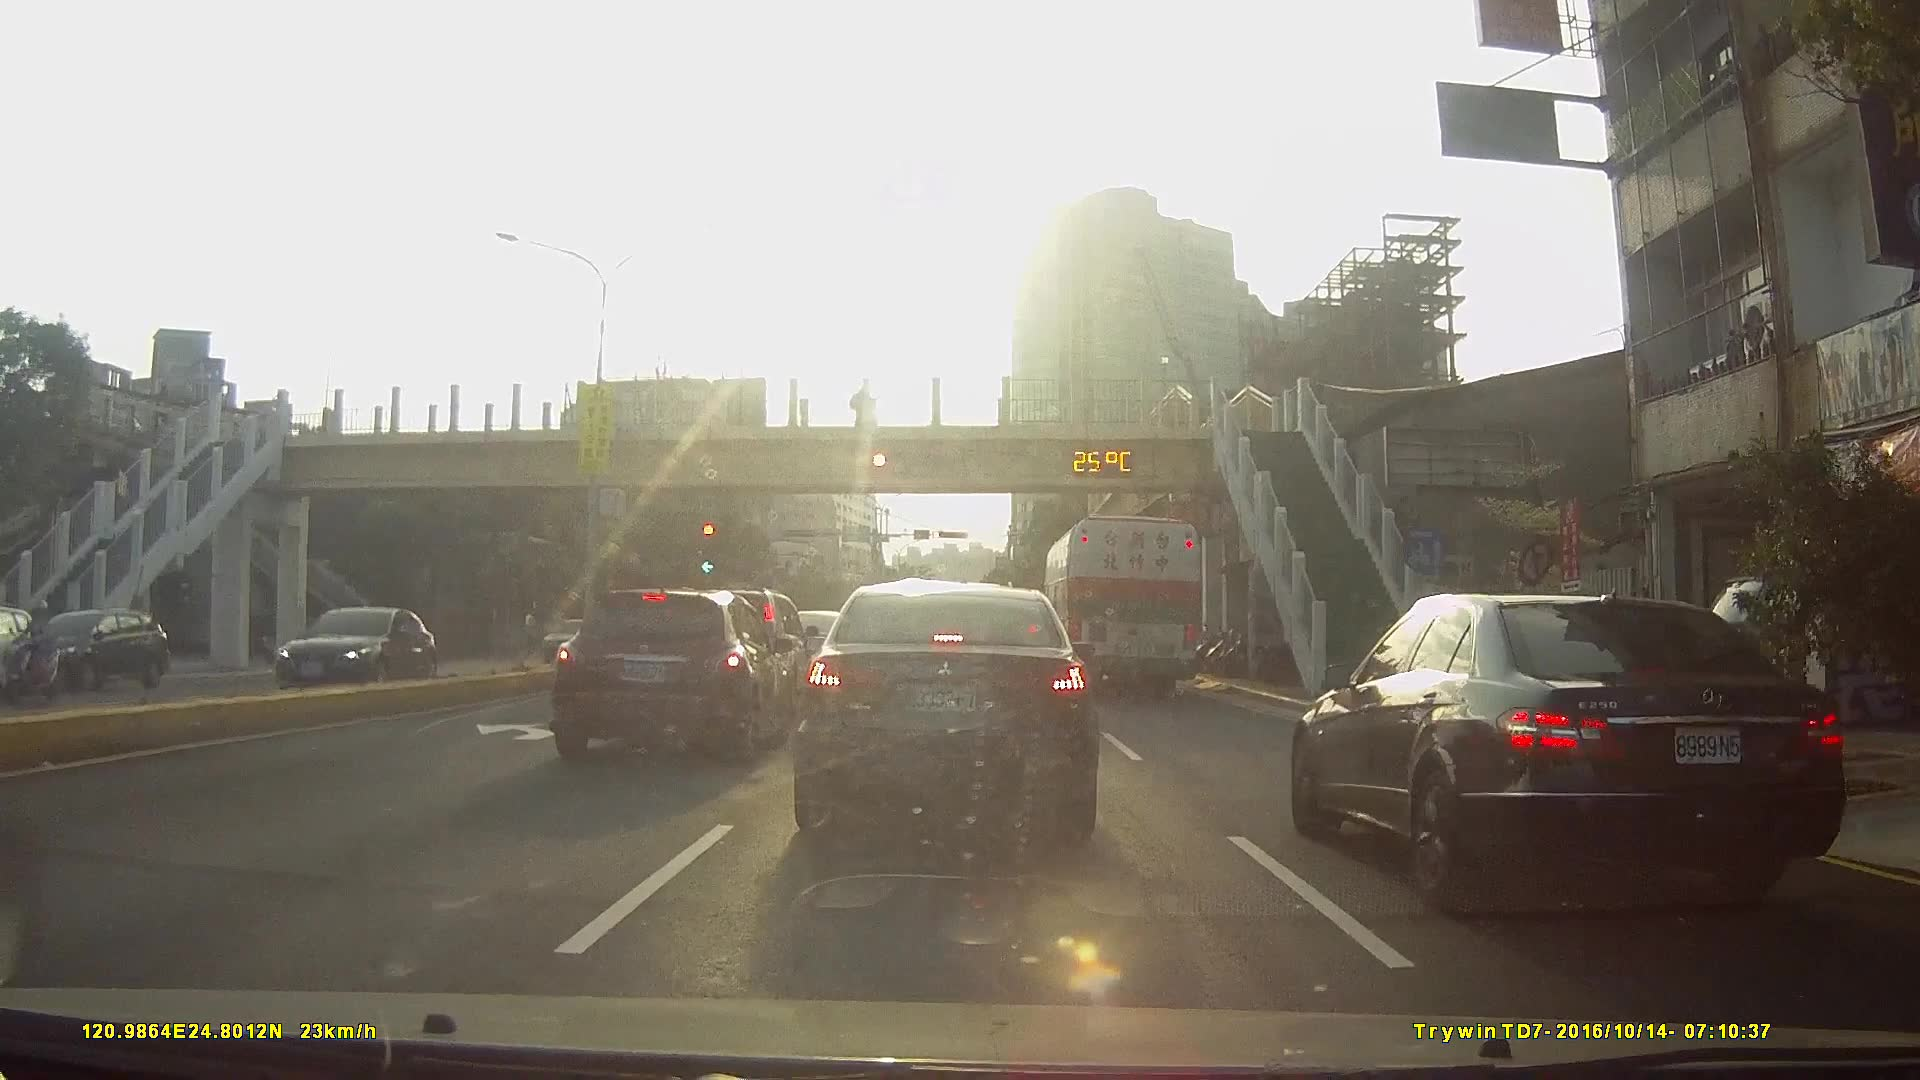pedestrian: (851, 383, 873, 432)
rider: (1, 595, 58, 703)
vehicle: (1284, 589, 1840, 910), (789, 579, 1101, 841), (544, 583, 798, 767), (1041, 514, 1204, 699), (257, 605, 430, 695), (27, 606, 170, 691), (0, 605, 46, 699), (536, 616, 601, 663)
